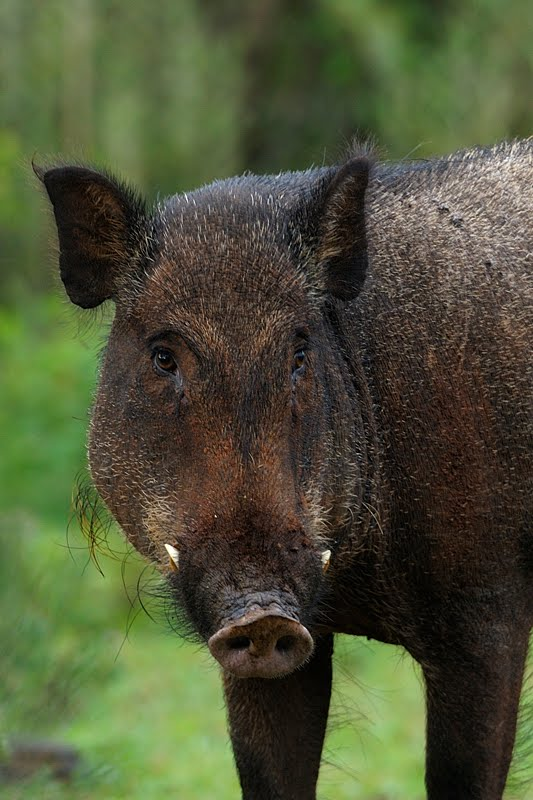wild boar: (33, 111, 533, 800)
